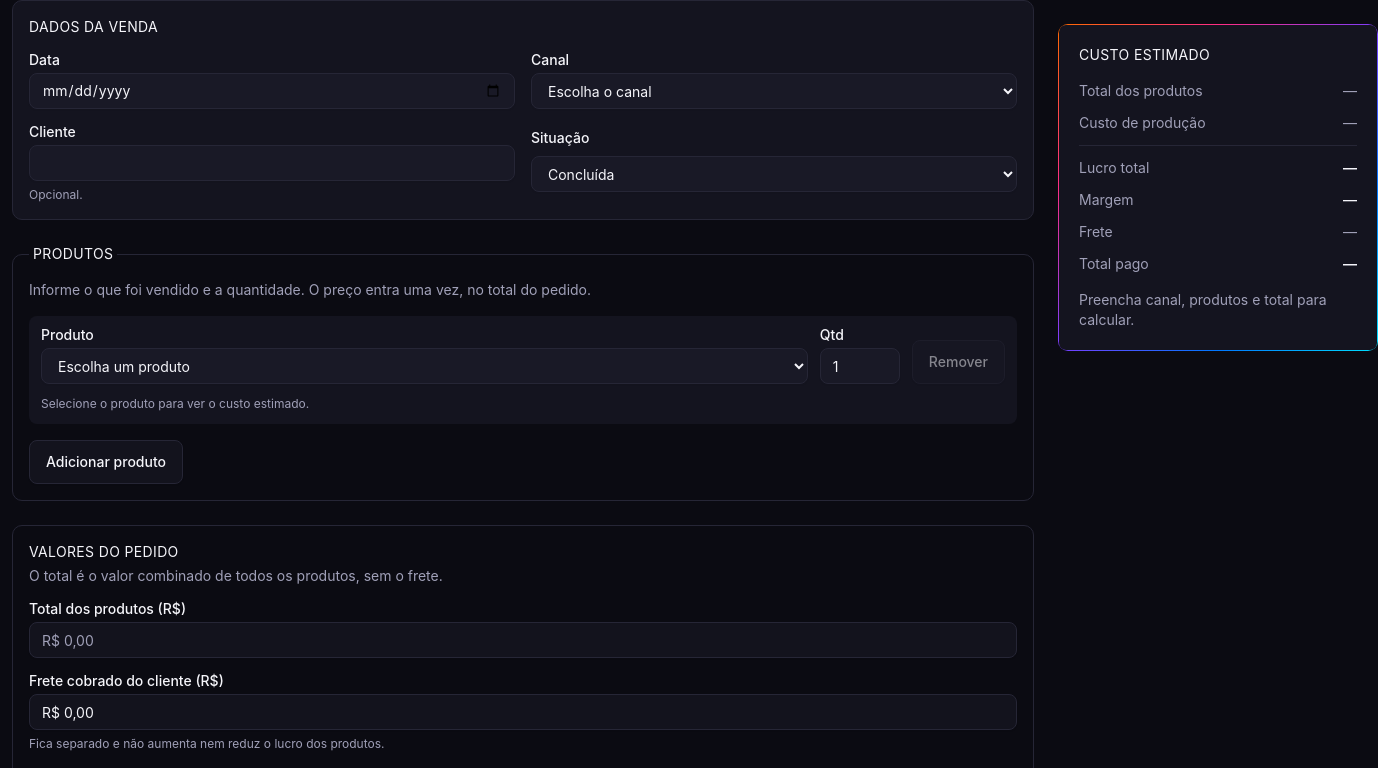
Test: permite substituir a sugestão pela taxa total realmente cobrada
Type "2026-08-08" into the date field labelled "Data".
click(272, 91); type("2026-08-08")  # box [29, 73, 515, 109]
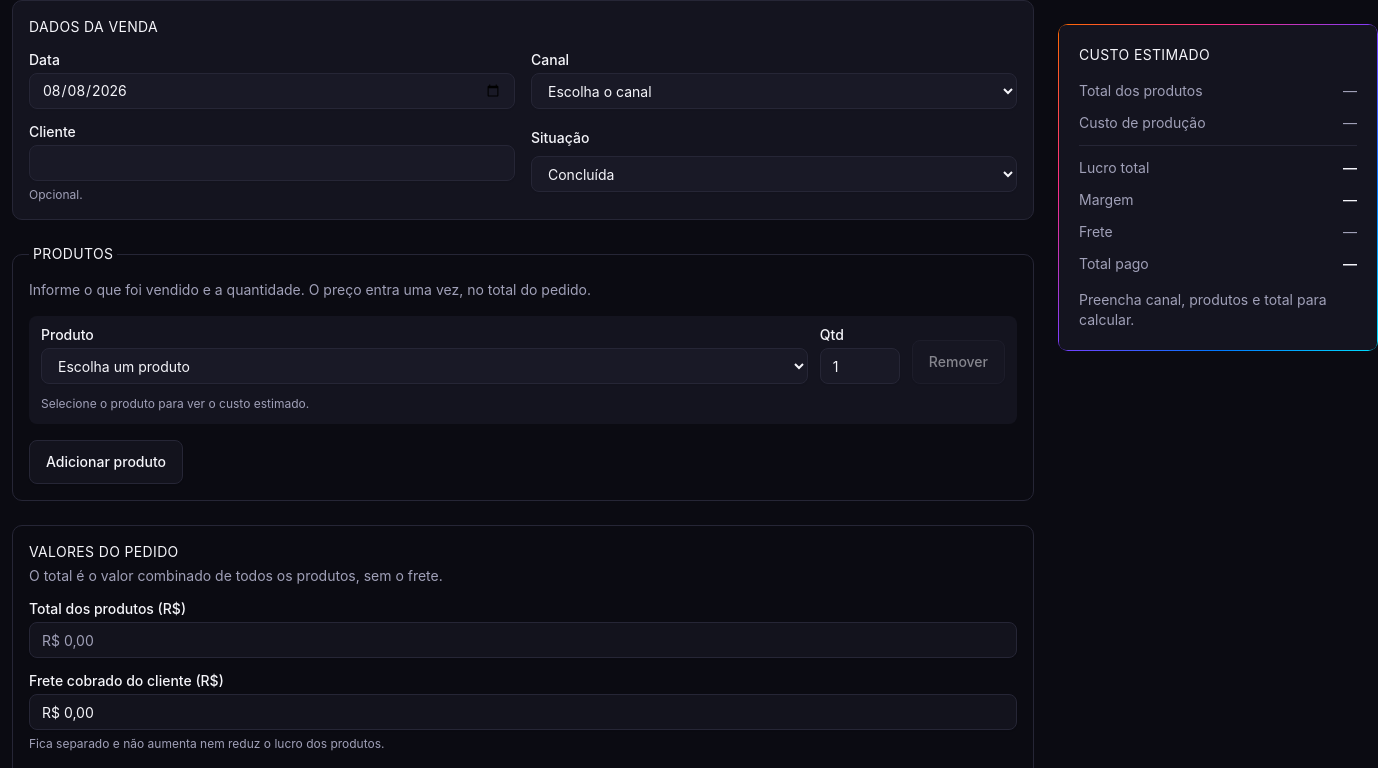
Select "Shopee" in the dropdown labelled "Canal" at point(774, 91), box [531, 73, 1017, 109]
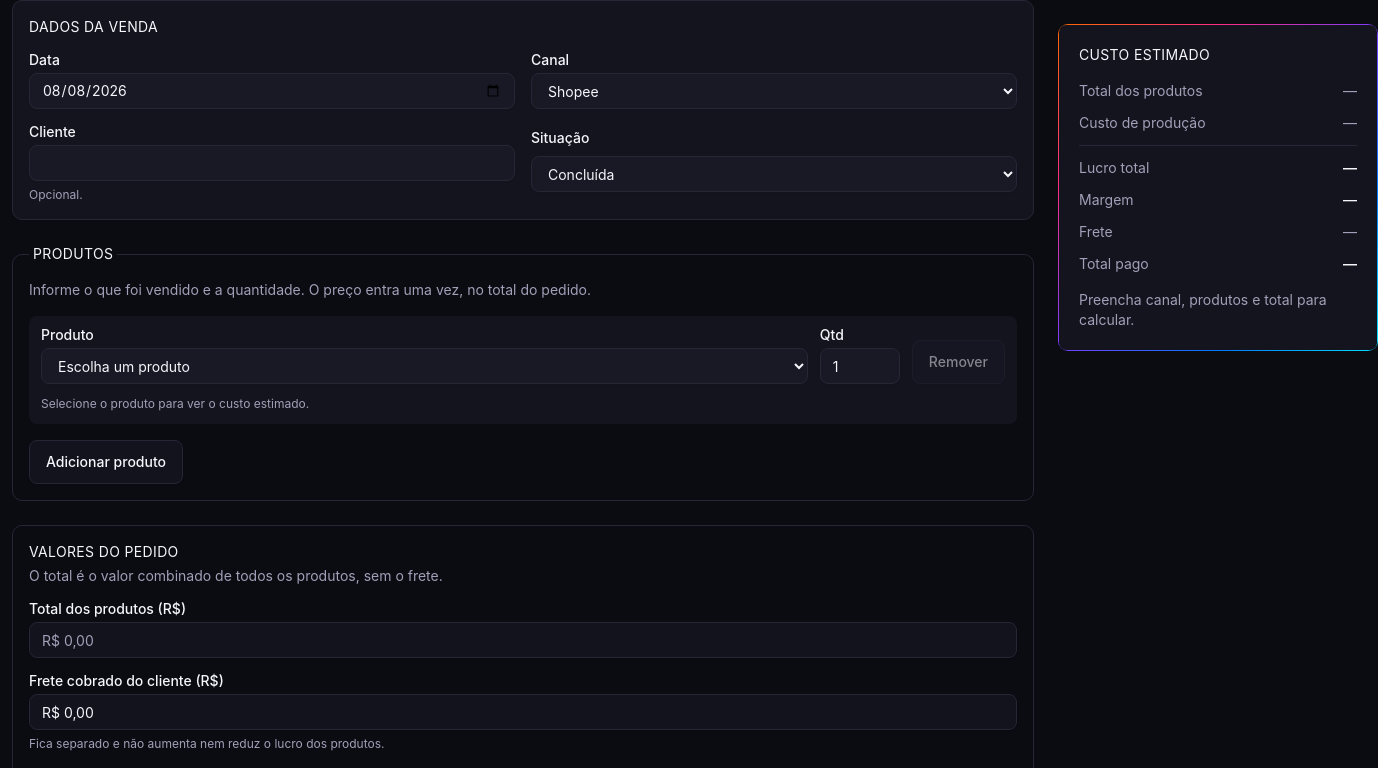
Select "Caneca" in the dropdown labelled "Produto" at point(424, 366), box [41, 348, 808, 384]
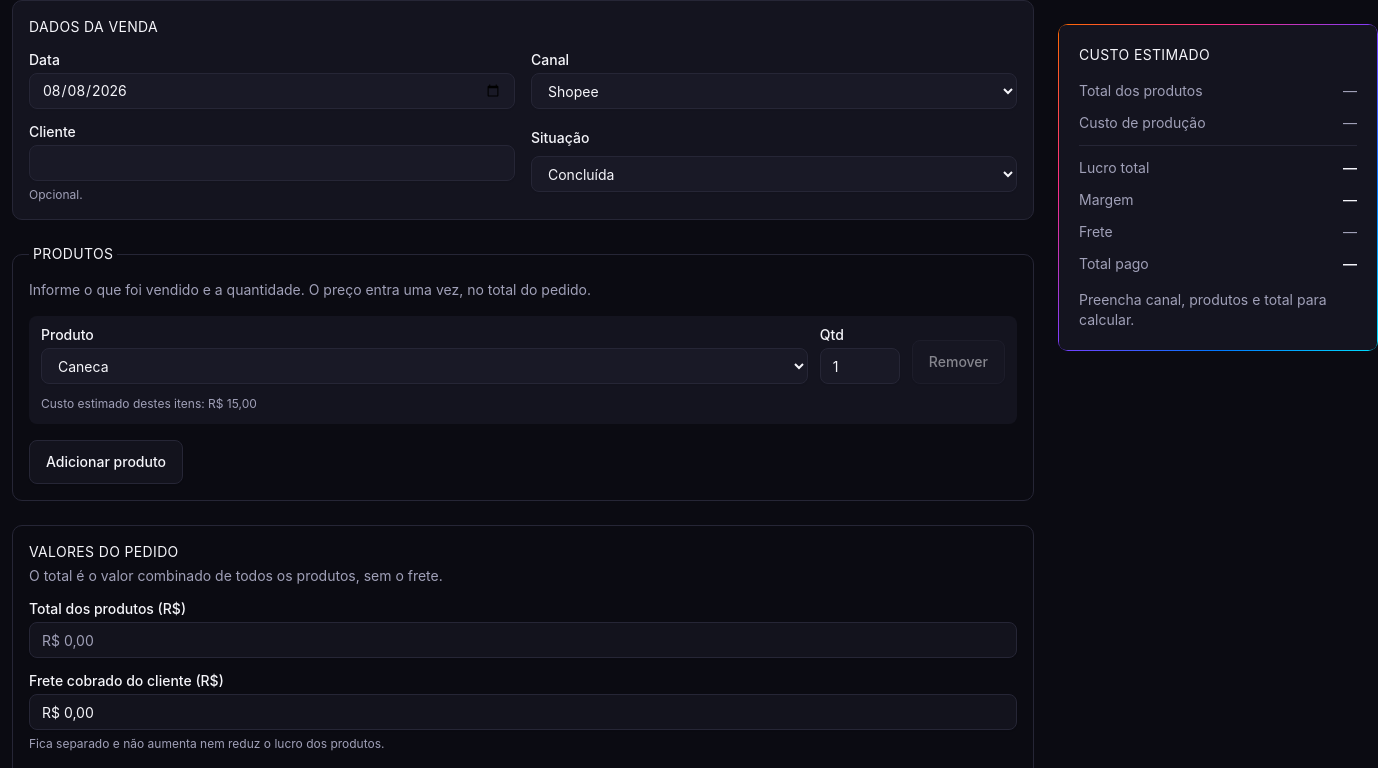
Type "10000" into the field labelled "Total dos produtos (R$)".
click(523, 640); type("10000")  # box [29, 622, 1017, 658]
(page scrolled)
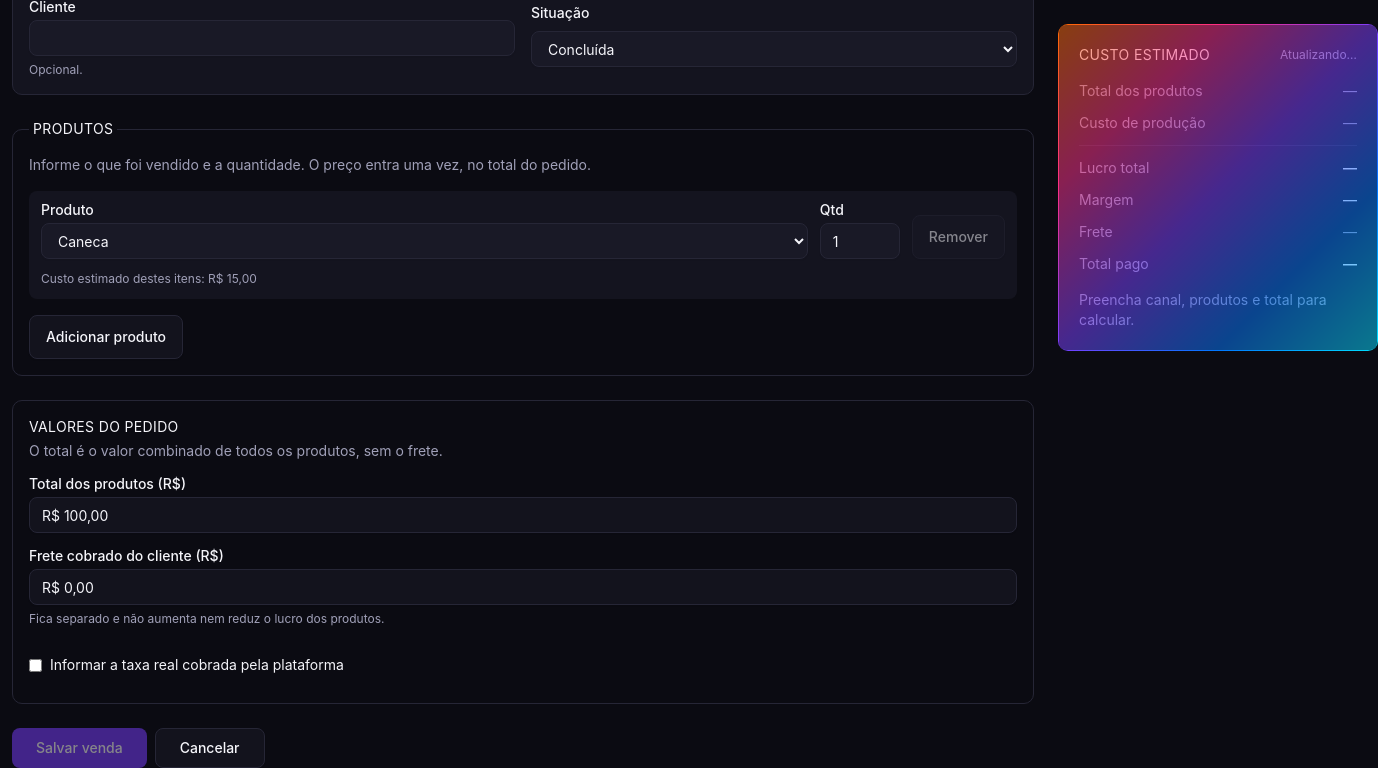
Click the checkbox labelled "Informar a taxa real cobrada pela plataforma".
click(36, 665)  # box [29, 658, 42, 672]
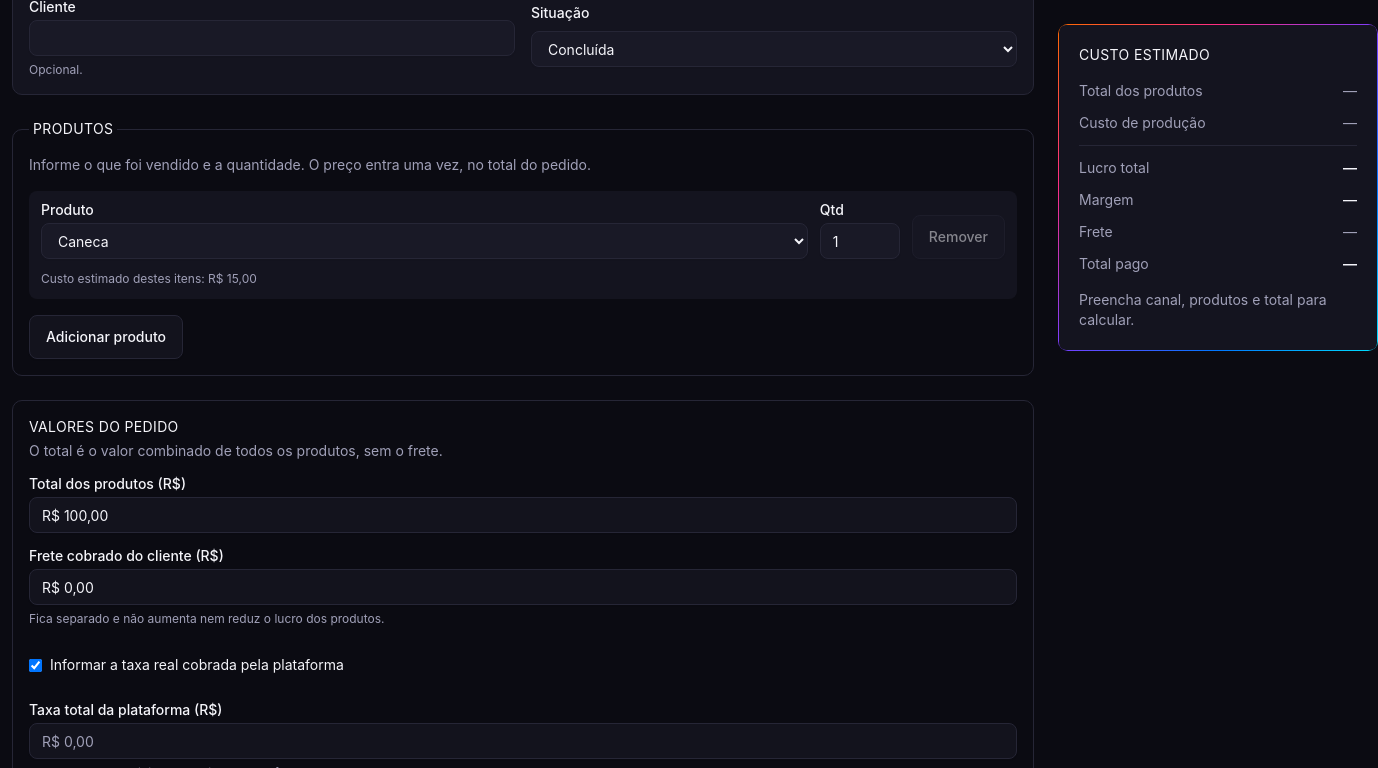
Type "2500" into the field labelled "Taxa total da plataforma (R$)".
click(523, 741); type("2500")  # box [29, 723, 1017, 759]
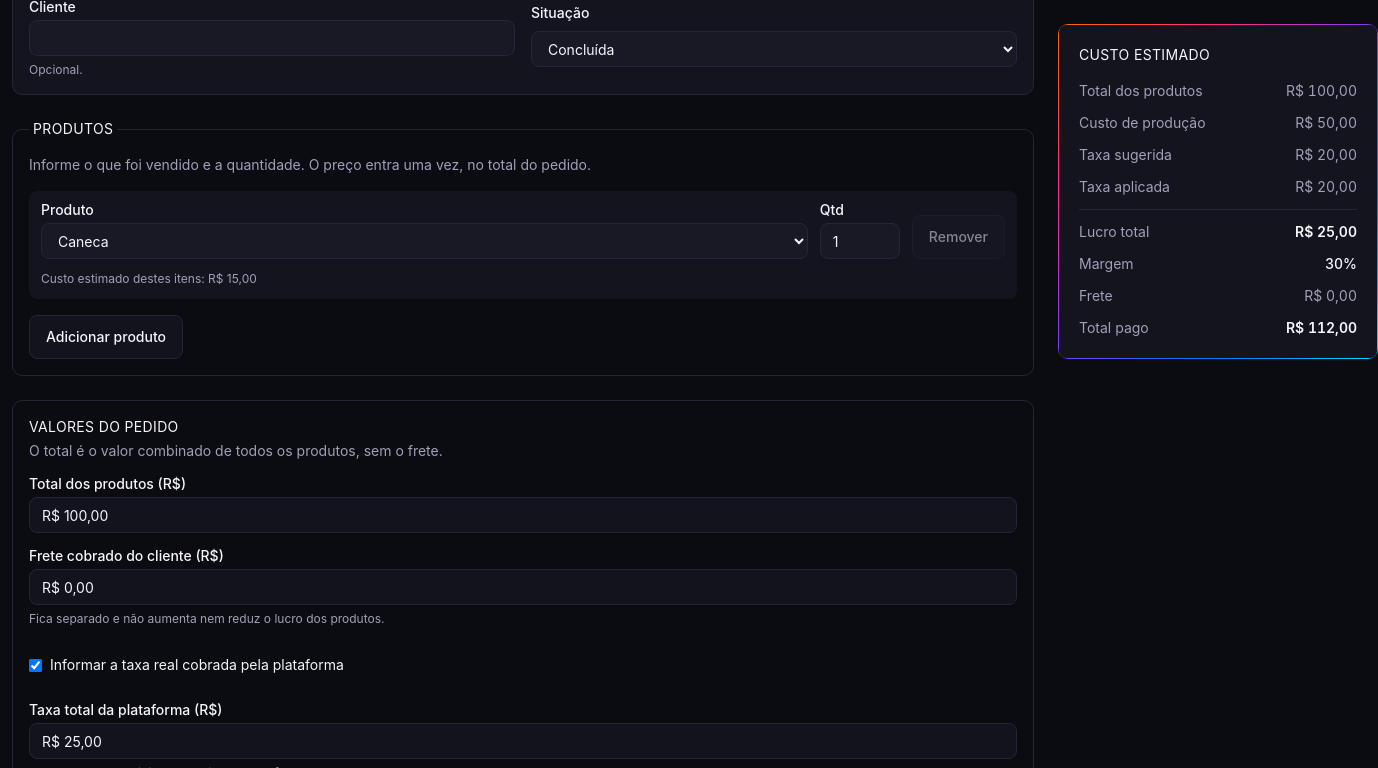
Check: the text "Taxa aplicada" is shown, box [1079, 177, 1170, 197]
